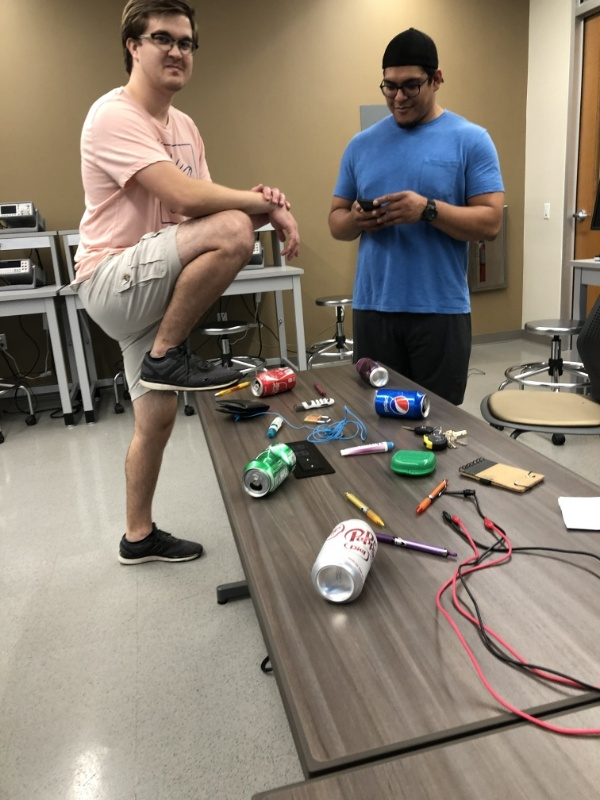can: (308, 514, 381, 614), (238, 439, 301, 504), (371, 383, 435, 422), (245, 363, 300, 400), (352, 351, 393, 391)
